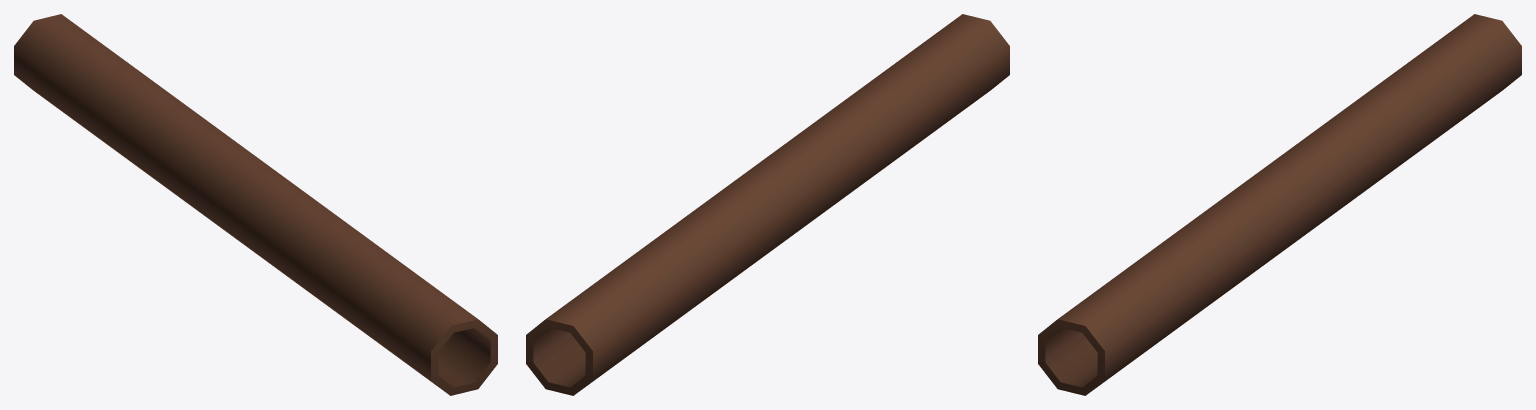
File: Pipe_C_1_1.fbx
The picture shows the model from 3 angles, left to right: view 1: azimuth 30°, elevation 25°; view 2: azimuth 150°, elevation 25°; view 3: azimuth 330°, elevation 25°; orthographic projection.
Parts seen in each view (by area): view 1: Pipe_C_1_1; view 2: Pipe_C_1_1; view 3: Pipe_C_1_1.
Part boxes in pixels (x1,y1,x2,y2): Pipe_C_1_1: (14,14,497,395); Pipe_C_1_1: (526,14,1009,395); Pipe_C_1_1: (1038,14,1521,395).
Size of the model in its own units: 51.05 by 51.05 by 551.
